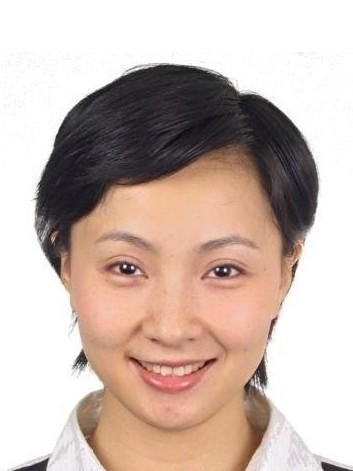unmask: (77, 190, 292, 408)
